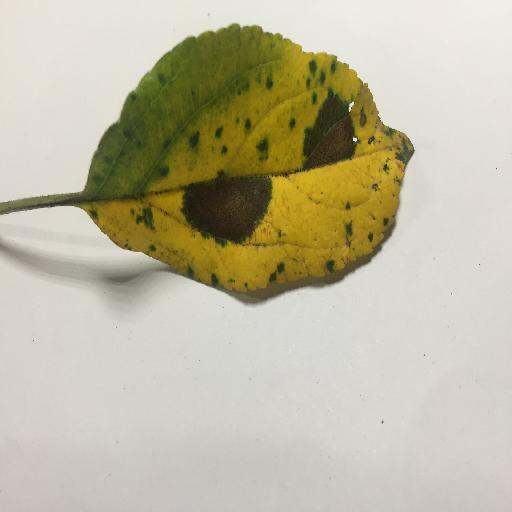Brown_Spot: (186, 190, 262, 231), (304, 121, 352, 165)
